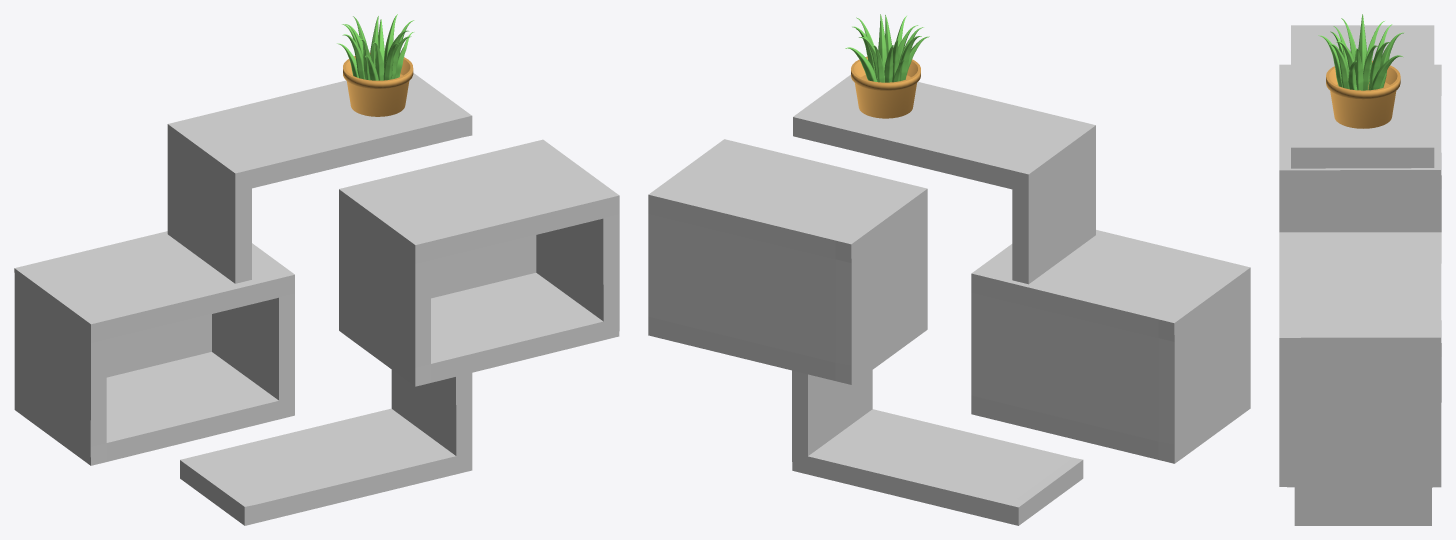
The model's file is shelves_tier6.fbx.
3 renders of one model, left to right at view 1: azimuth 30°, elevation 25°; view 2: azimuth 150°, elevation 25°; view 3: azimuth 270°, elevation 25°, orthographic. The views are drawn at different scales.
Visible parts, largest first — view 1: Cube.003, BezierCurve.014, Cylinder; view 2: Cube.003, BezierCurve.014, Cylinder; view 3: Cube.003, BezierCurve.014, Cylinder.
Part boxes in pixels (x1=…): Cube.003: x1=14, y1=73, x2=619, y2=525; BezierCurve.014: x1=337, y1=14, x2=414, y2=80; Cylinder: x1=343, y1=53, x2=413, y2=116; Cube.003: x1=648, y1=74, x2=1250, y2=525; BezierCurve.014: x1=845, y1=14, x2=929, y2=82; Cylinder: x1=851, y1=56, x2=920, y2=118; Cube.003: x1=1279, y1=25, x2=1441, y2=525; BezierCurve.014: x1=1318, y1=14, x2=1404, y2=90; Cylinder: x1=1326, y1=61, x2=1400, y2=128.
Size of the model in its own units: 207 by 163 by 52.
